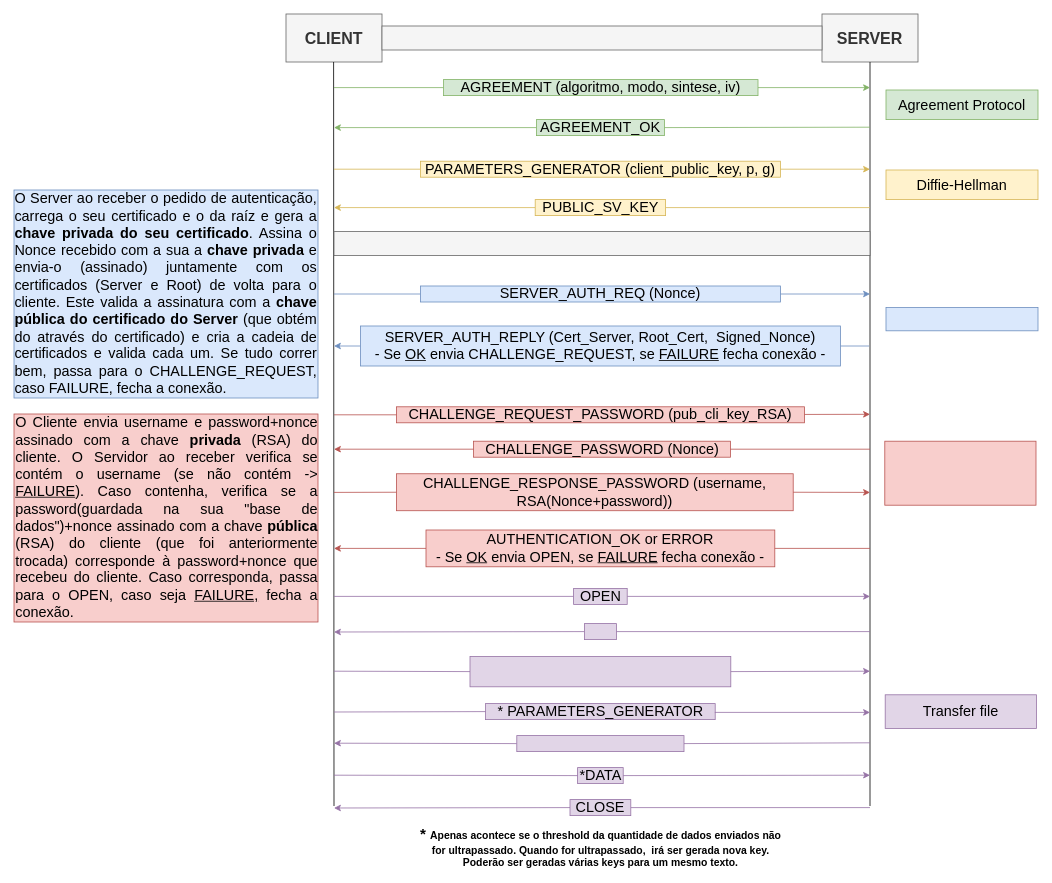
Image size: 1052x883. Some labels were removed from this diagram. Each missing label, with the box of its shape:
* PUBLIC_SV_KEY / OK: (516, 735, 684, 752)
AUTENTICAÇÃO PASSWORD: (381, 25, 822, 50)
Autenticação Servidor: (885, 307, 1038, 331)
DATA - até acabar envio ou passar threshold -: (469, 656, 731, 687)
Mecanismo de desafio-resposta: (884, 440, 1036, 505)
OK: (584, 623, 616, 640)
Todas as mensagens enviadas daqui para baixo são encriptadas (SECURE_X): (333, 231, 870, 256)
